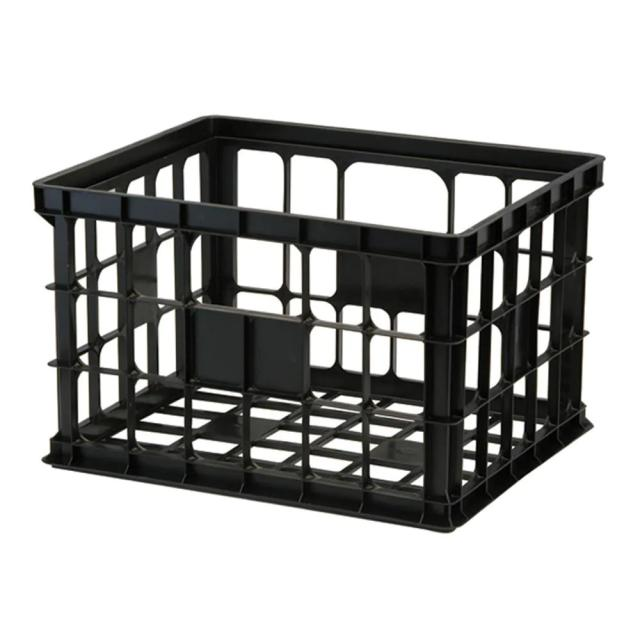basket: (3, 98, 620, 546)
